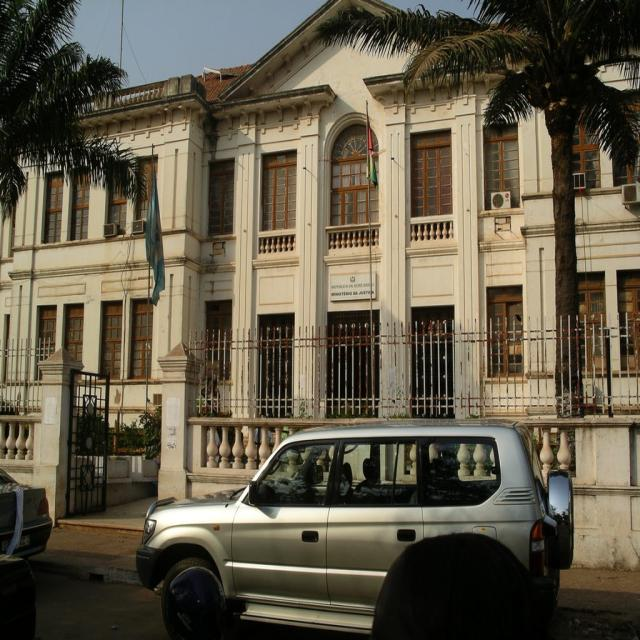car: (119, 418, 574, 636)
